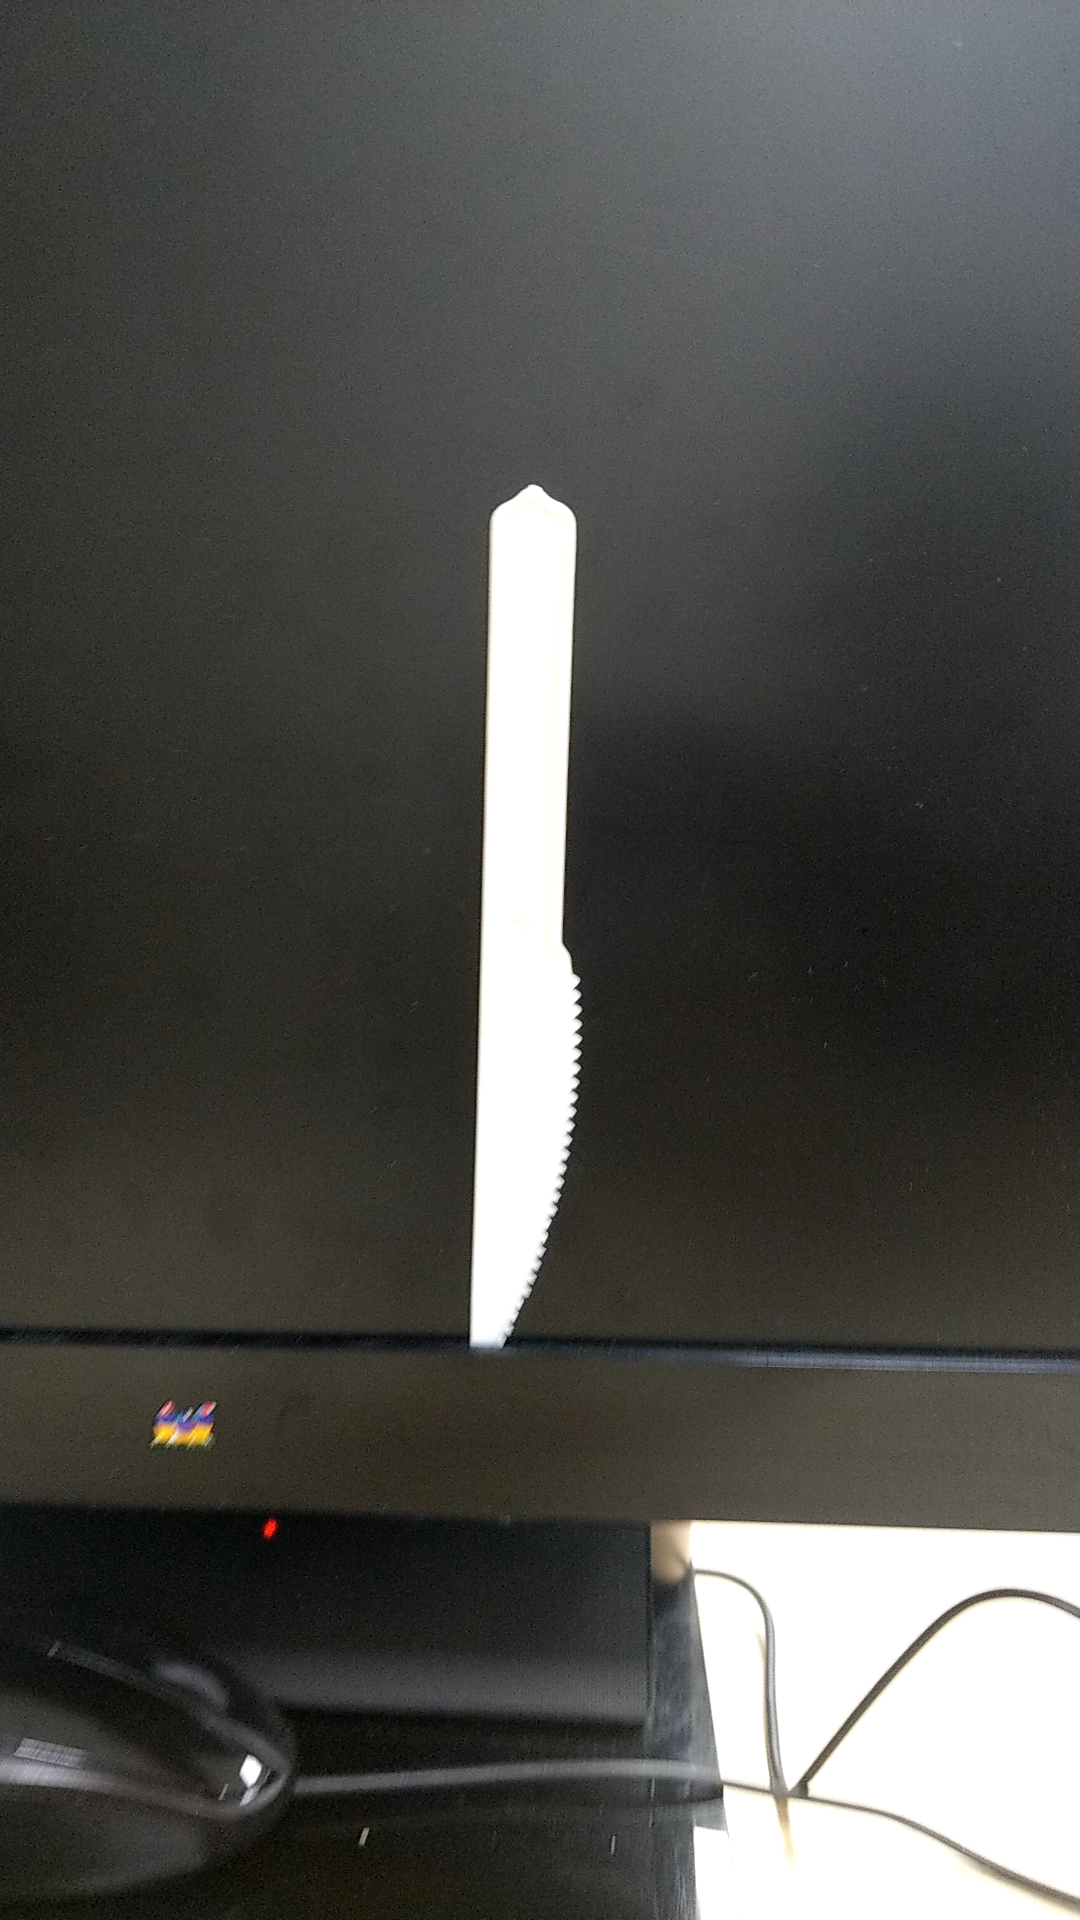knife: (430, 458, 609, 1346)
